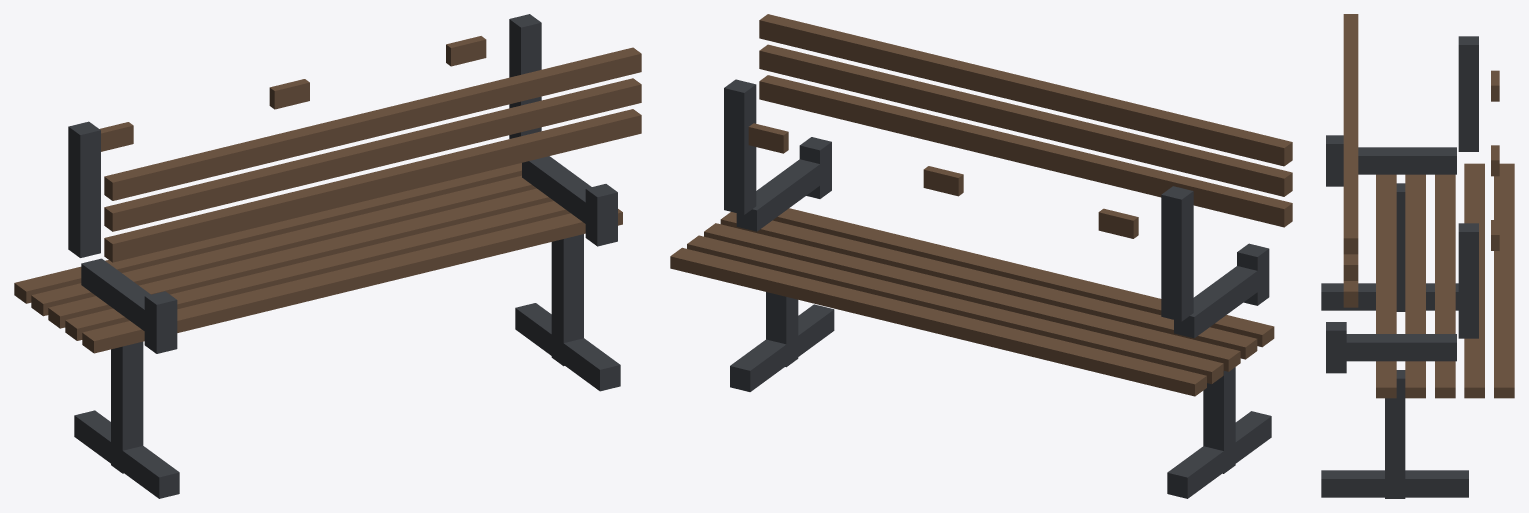
Rendered from prop_bench.glb.
The picture shows the model from 3 angles, left to right: view 1: azimuth 30°, elevation 25°; view 2: azimuth 150°, elevation 25°; view 3: azimuth 270°, elevation 25°; orthographic projection. The views are drawn at different scales.
Visible parts, largest first — view 1: bench.001; view 2: bench.001; view 3: bench.001.
Boxes of the visible parts, left/top/right/bottom form: bench.001: left=14, top=14, right=641, bottom=498; bench.001: left=670, top=14, right=1292, bottom=498; bench.001: left=1321, top=14, right=1514, bottom=498.
Bounding box in the file's own units: 1.8 × 1.03 × 0.655.
